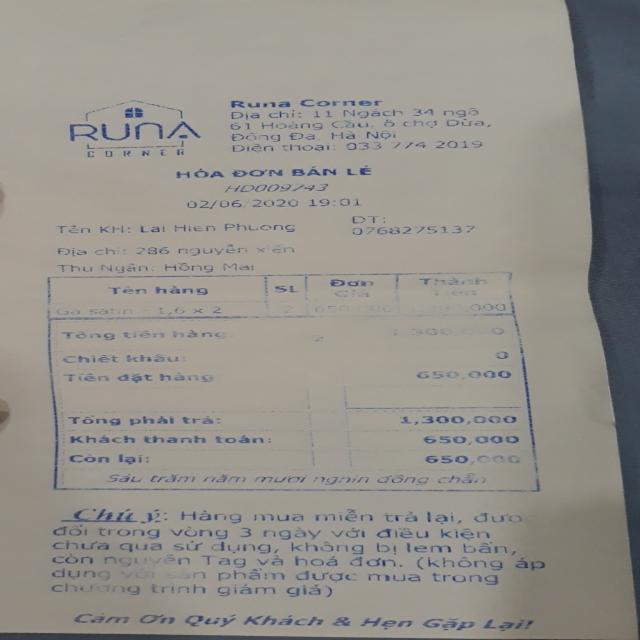Date: (176, 193, 306, 213)
Store_Name: (222, 98, 388, 109)
amount_number: (390, 321, 515, 338)
label_total: (58, 328, 242, 342)
